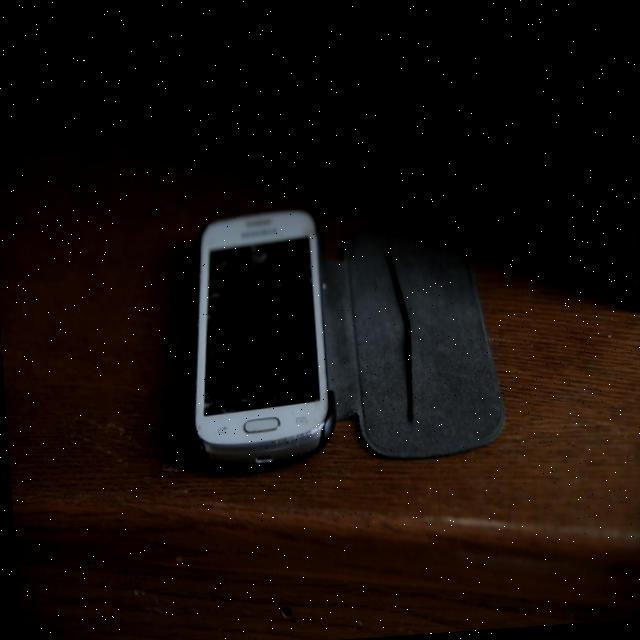Phone: (171, 198, 352, 477)
